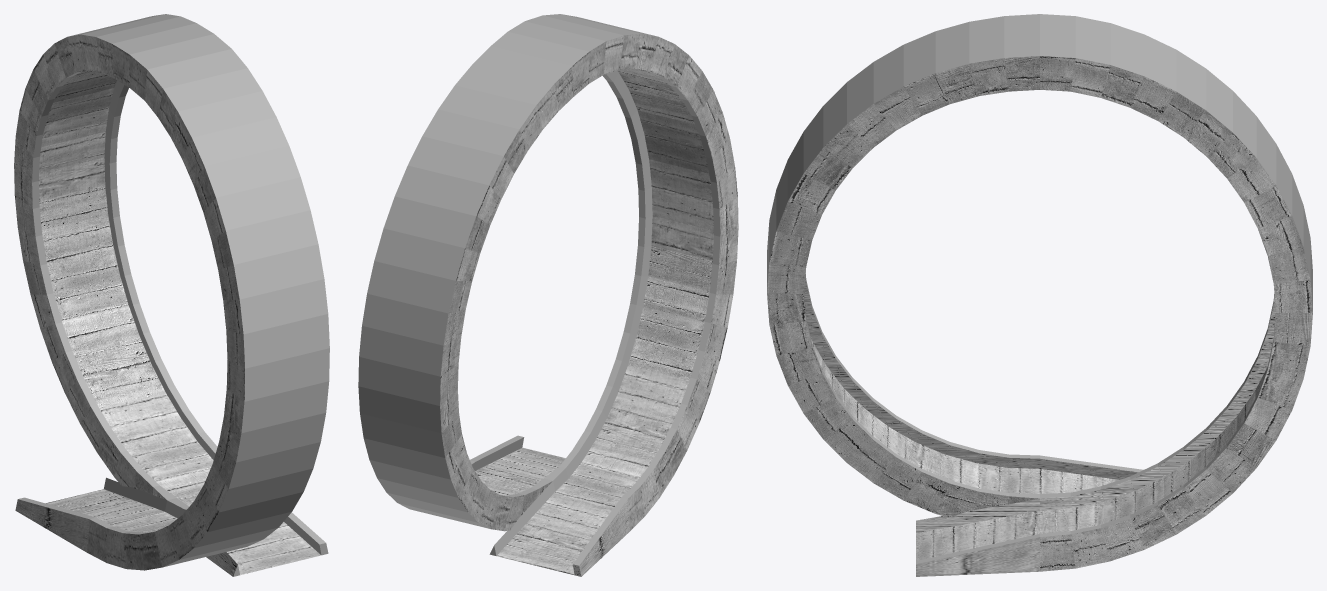
File: LoopModel.fbx
3 views of the same model, side by side, from view 1: azimuth 30°, elevation 25°; view 2: azimuth 150°, elevation 25°; view 3: azimuth 270°, elevation 25° (orthographic). The views are drawn at different scales.
Parts seen in each view (by area): view 1: Loop; view 2: Loop; view 3: Loop.
Part boxes in pixels (bbox=[...]): Loop: bbox=[14, 14, 329, 576]; Loop: bbox=[358, 14, 738, 576]; Loop: bbox=[767, 14, 1312, 576].
Size of the model in its own units: 18 by 44 by 44.
